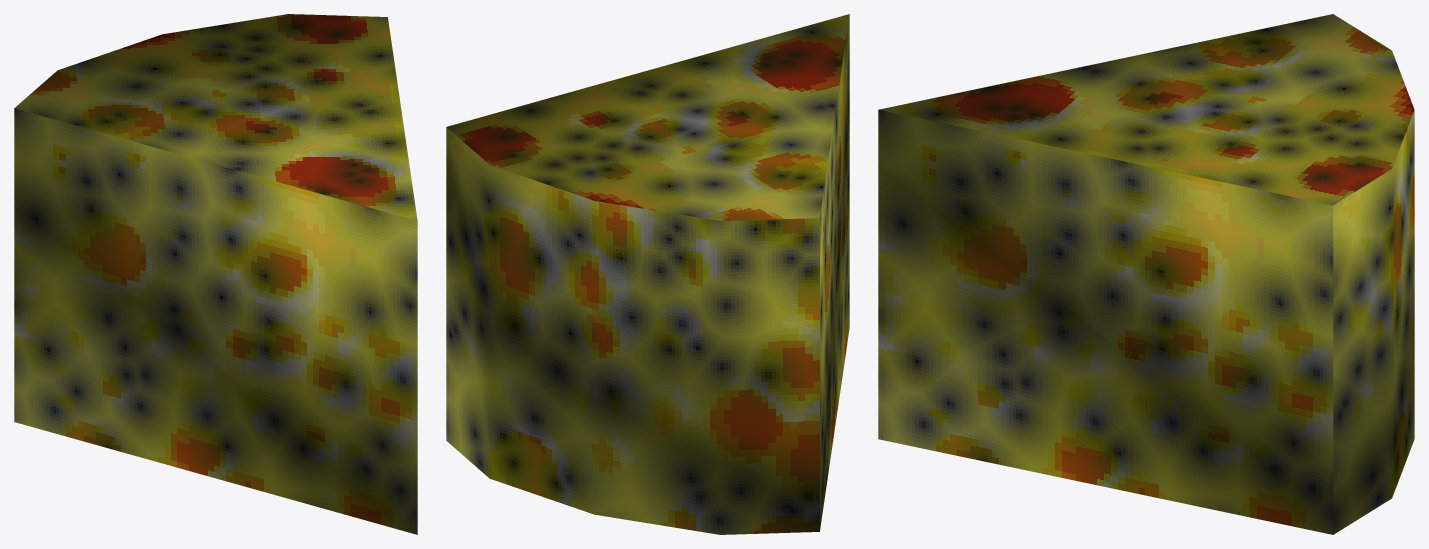
The model's file is CheeseDiseased.glb.
3 renders of one model, left to right at view 1: azimuth 30°, elevation 25°; view 2: azimuth 150°, elevation 25°; view 3: azimuth 270°, elevation 25°, orthographic. The views are drawn at different scales.
Visible parts, largest first — view 1: Cheese_diseased; view 2: Cheese_diseased; view 3: Cheese_diseased.
Part boxes in pixels (x1=…): Cheese_diseased: x1=14, y1=14, x2=417, y2=534; Cheese_diseased: x1=446, y1=14, x2=849, y2=534; Cheese_diseased: x1=878, y1=14, x2=1414, y2=534.
Bounding box in the file's own units: 0.3516 × 0.2822 × 0.4161.
1 material, 1 textured.
